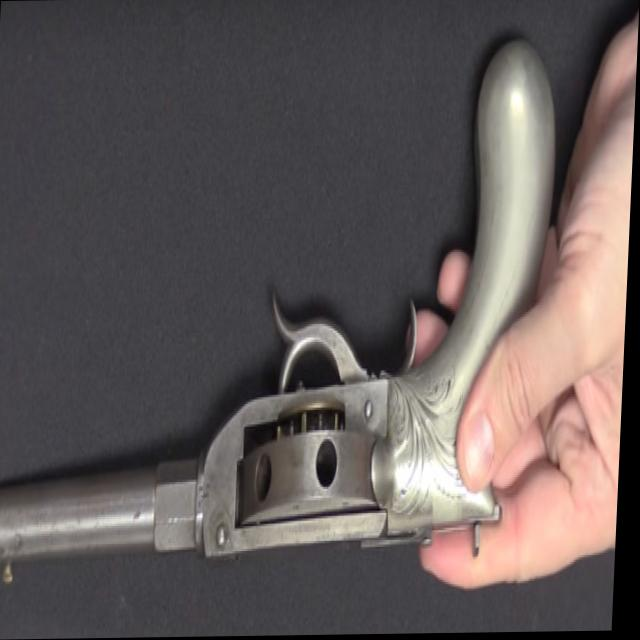handgun: (0, 54, 563, 608)
